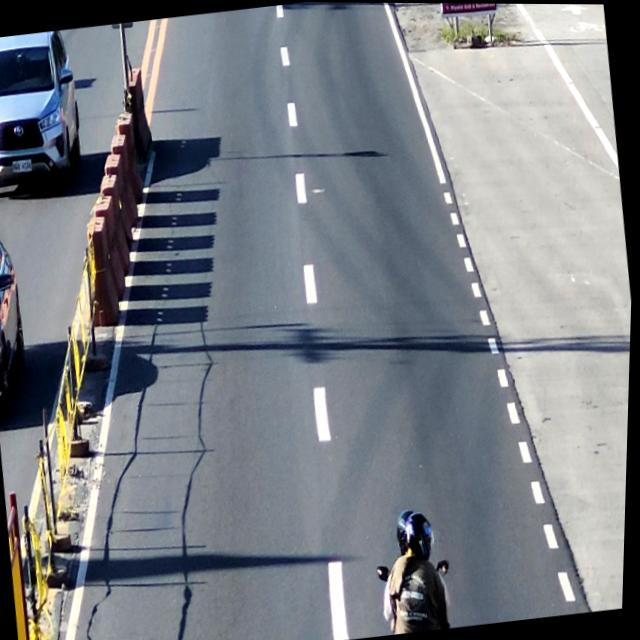Motorcycle: (369, 502, 468, 636)
